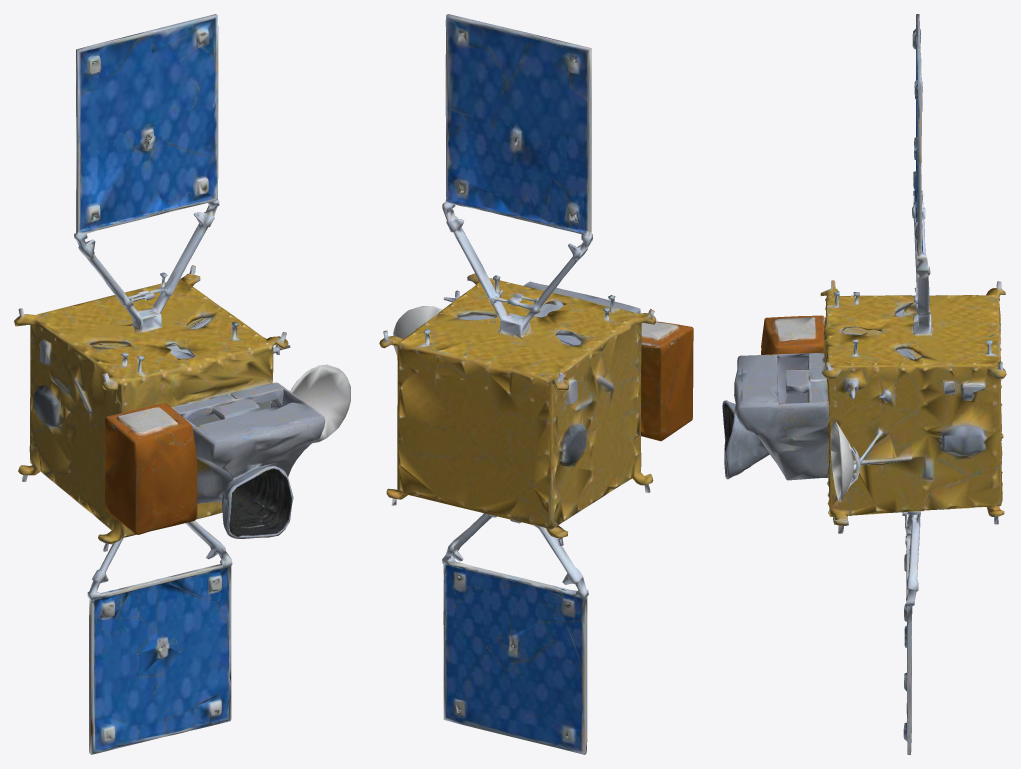
The model's file is sentinel4-low.glb.
3 views of the same model, side by side, from view 1: azimuth 30°, elevation 25°; view 2: azimuth 150°, elevation 25°; view 3: azimuth 270°, elevation 25° (orthographic). The views are drawn at different scales.
Bounding box in the file's own units: 0.7276 × 1.9 × 0.7289.
1 material, 1 textured.
